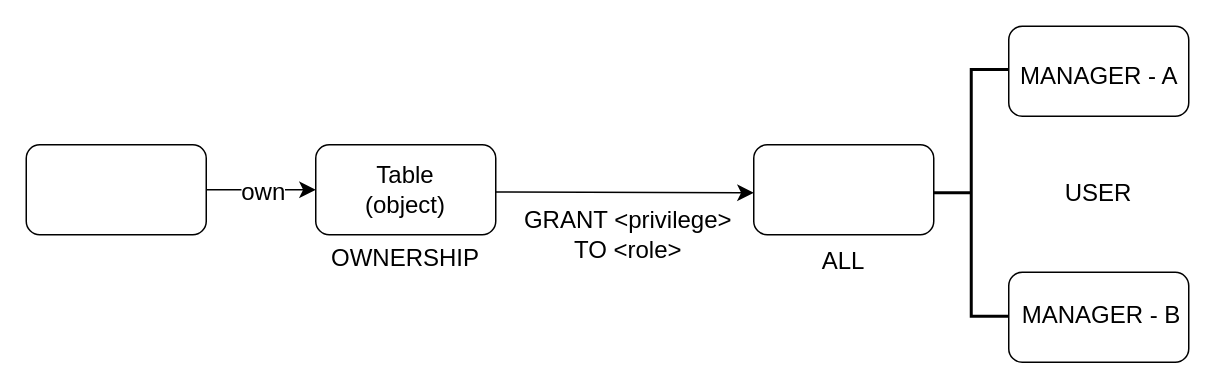
This 1215x389 diagram has some shape labels left out. The shapes that lost their labels are listed below. From the top down, each one's box as (x1, y1, x2, y2) in pixels, then its label:
(25, 143, 206, 235): You
(752, 143, 934, 235): Manager (ROLE)
